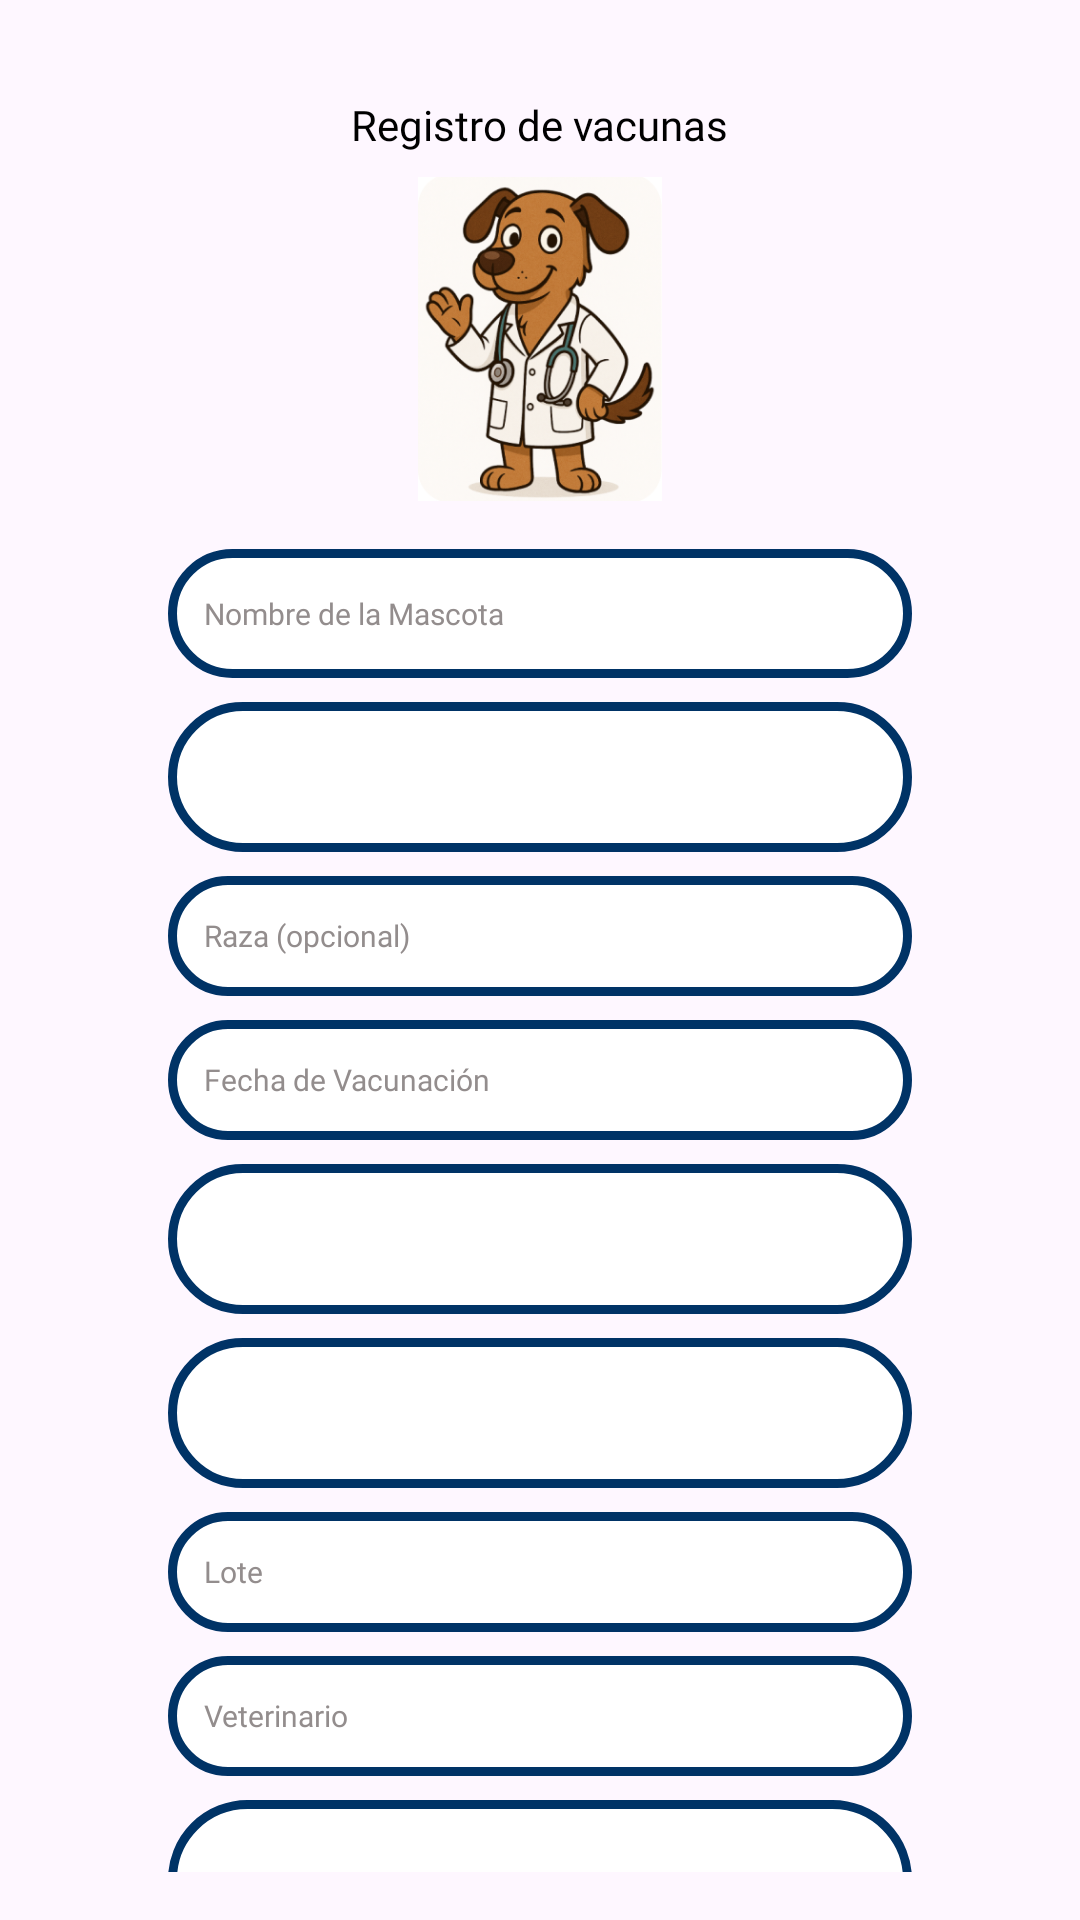

Where to tap for icons on this 1080 × 1920 app screen, as [x,y]:
Imagen de Mascota: [539,339]
